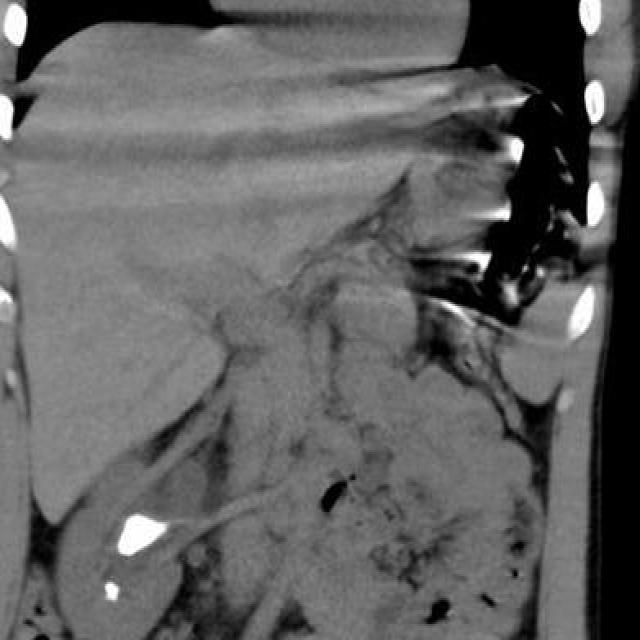Tas_Var: (108, 496, 174, 566), (100, 575, 124, 605)
